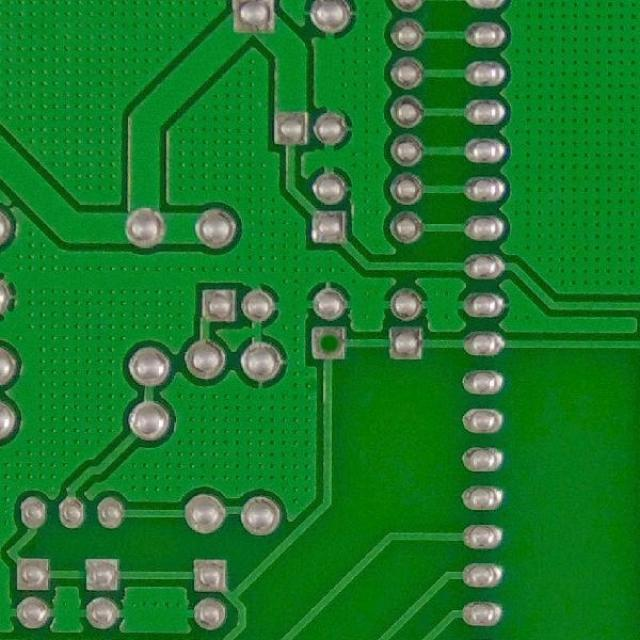missing_hole: (314, 328, 348, 362)
